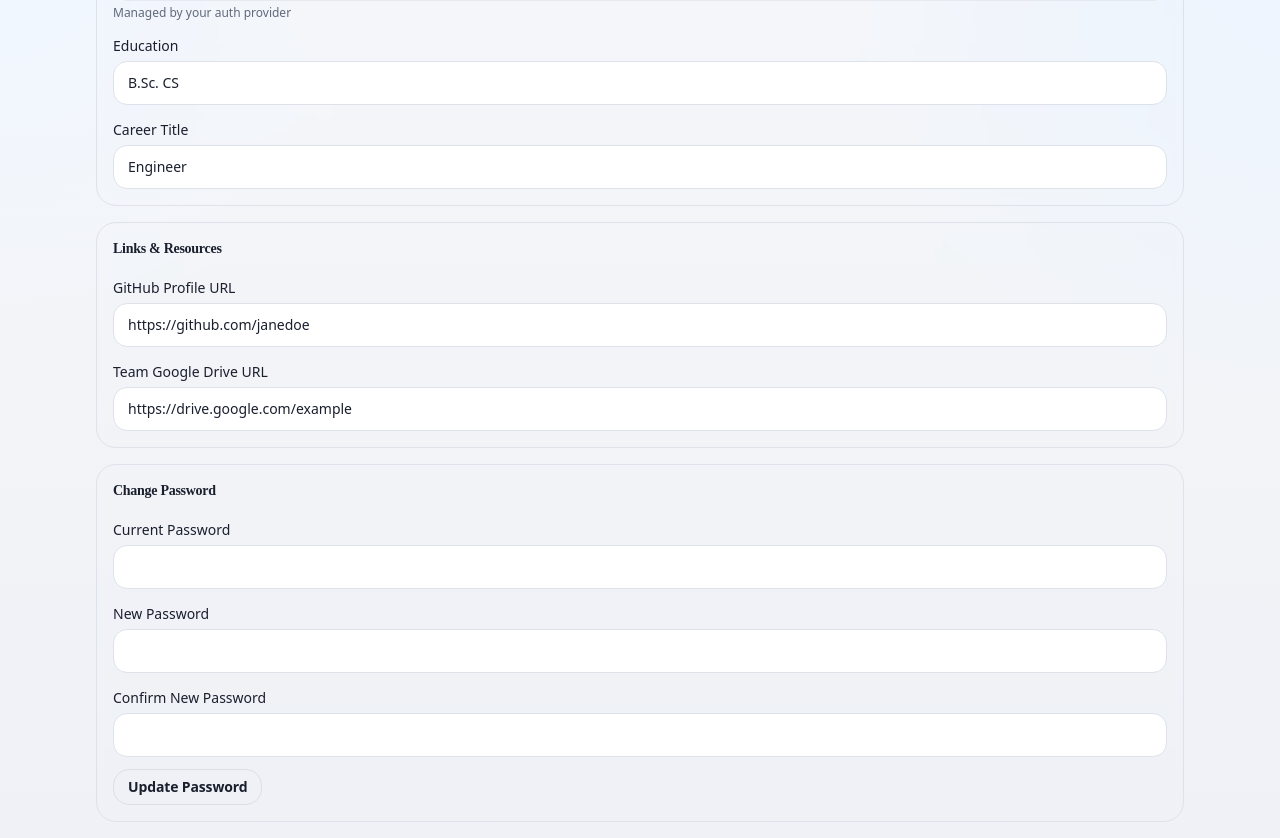
ProfilePage › rejects invalid Drive URL on save
(page scrolled)
Replace the text in the field labelled "Team Google Drive URL" with "https://notdrive.com/folder" at (640, 408), box 113,386 -> 1167,430
(page scrolled)
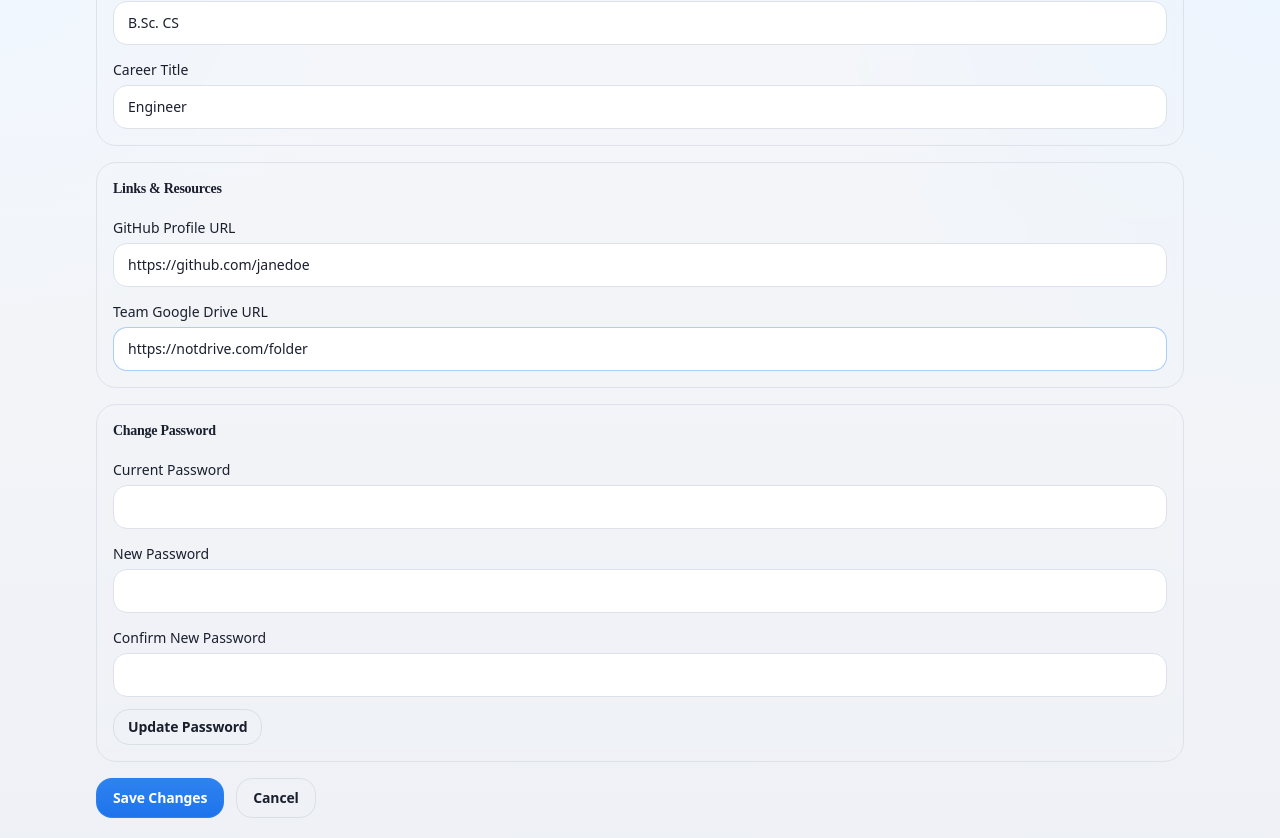
Click the button "Save Changes" at (160, 798), box 96,778 -> 224,818
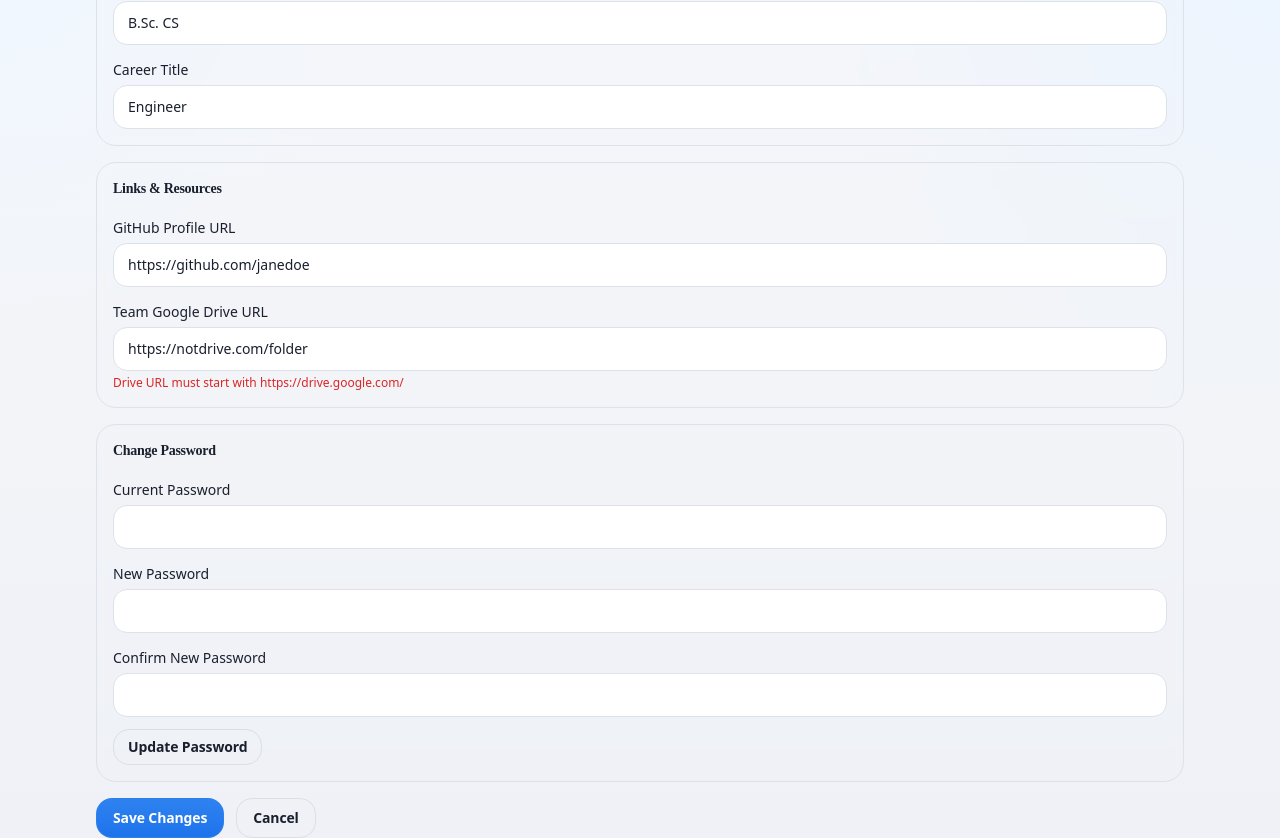
Now the text "Drive URL must start with https://drive.google.com/" is shown, box 113,374 -> 404,390
